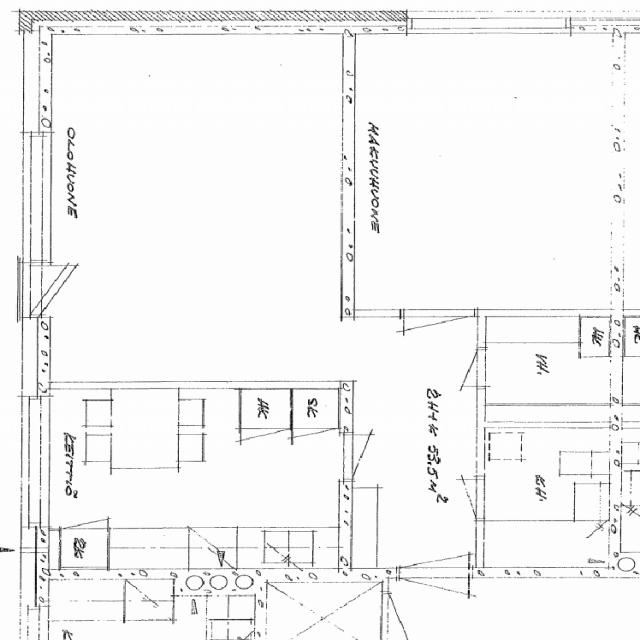door: (399, 512, 468, 580), (399, 568, 468, 635), (403, 309, 473, 371), (21, 266, 110, 314), (339, 434, 409, 480), (426, 478, 484, 518), (429, 348, 484, 386)
